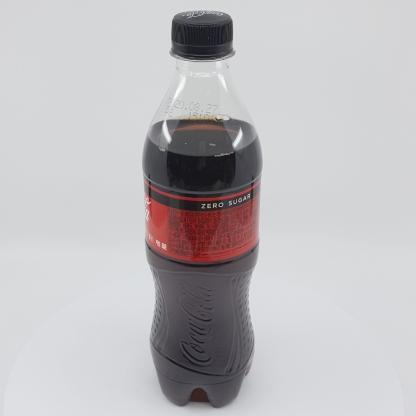------500ML: (142, 10, 262, 407)
